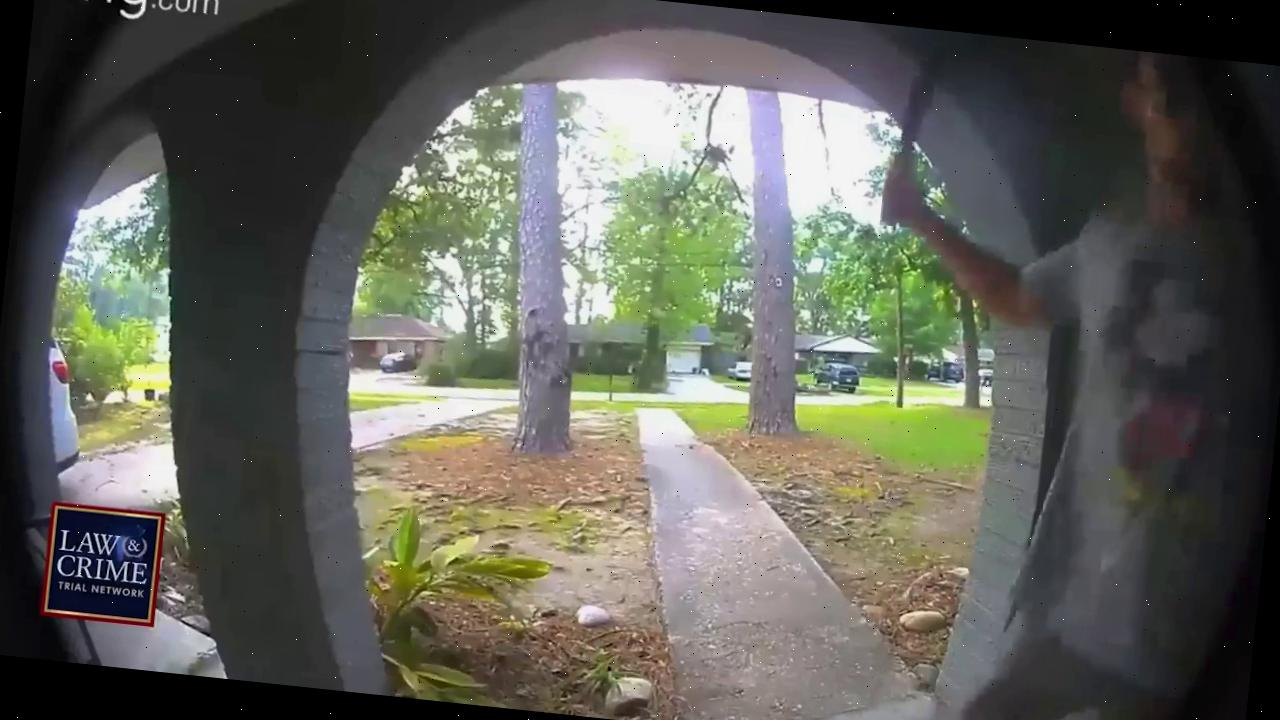suspicion: (775, 20, 1280, 720), (864, 30, 972, 230)
